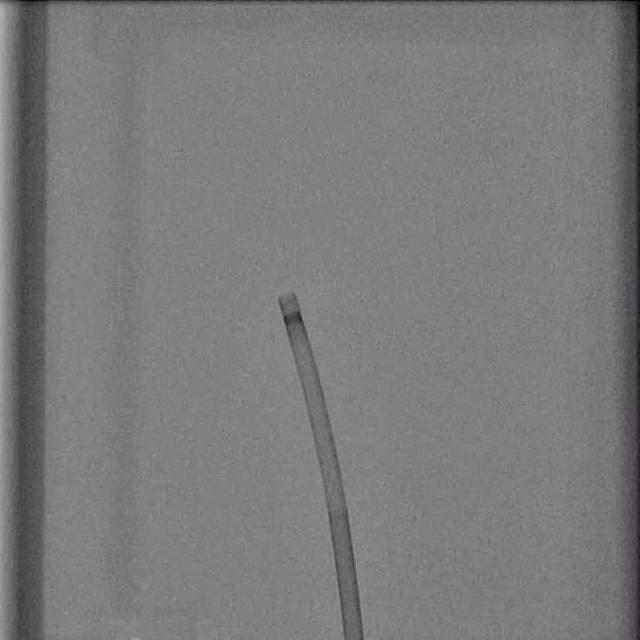bend: (327, 500, 348, 513)
entry: (346, 636, 365, 640)
marker: (282, 312, 305, 326)
tip: (278, 292, 296, 299)
